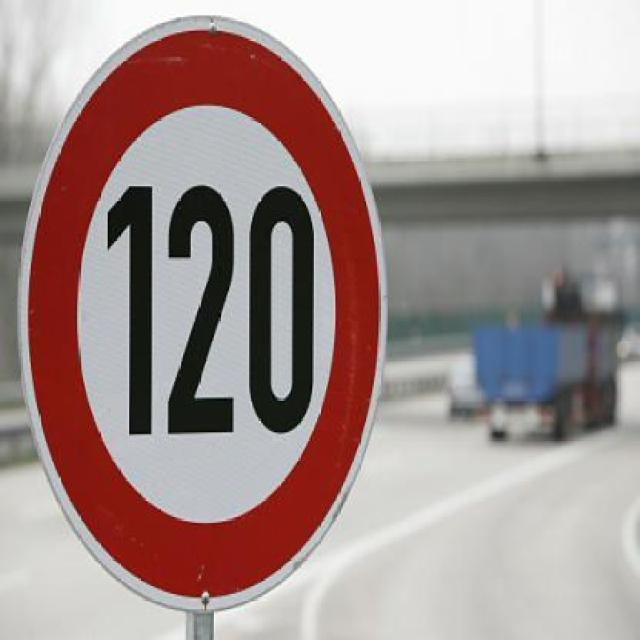forb_speed_over_120: (36, 16, 382, 607)
